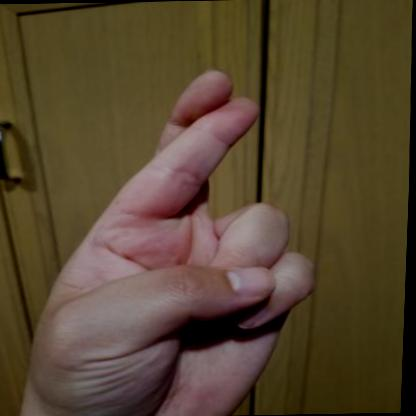R: (1, 62, 337, 416)
